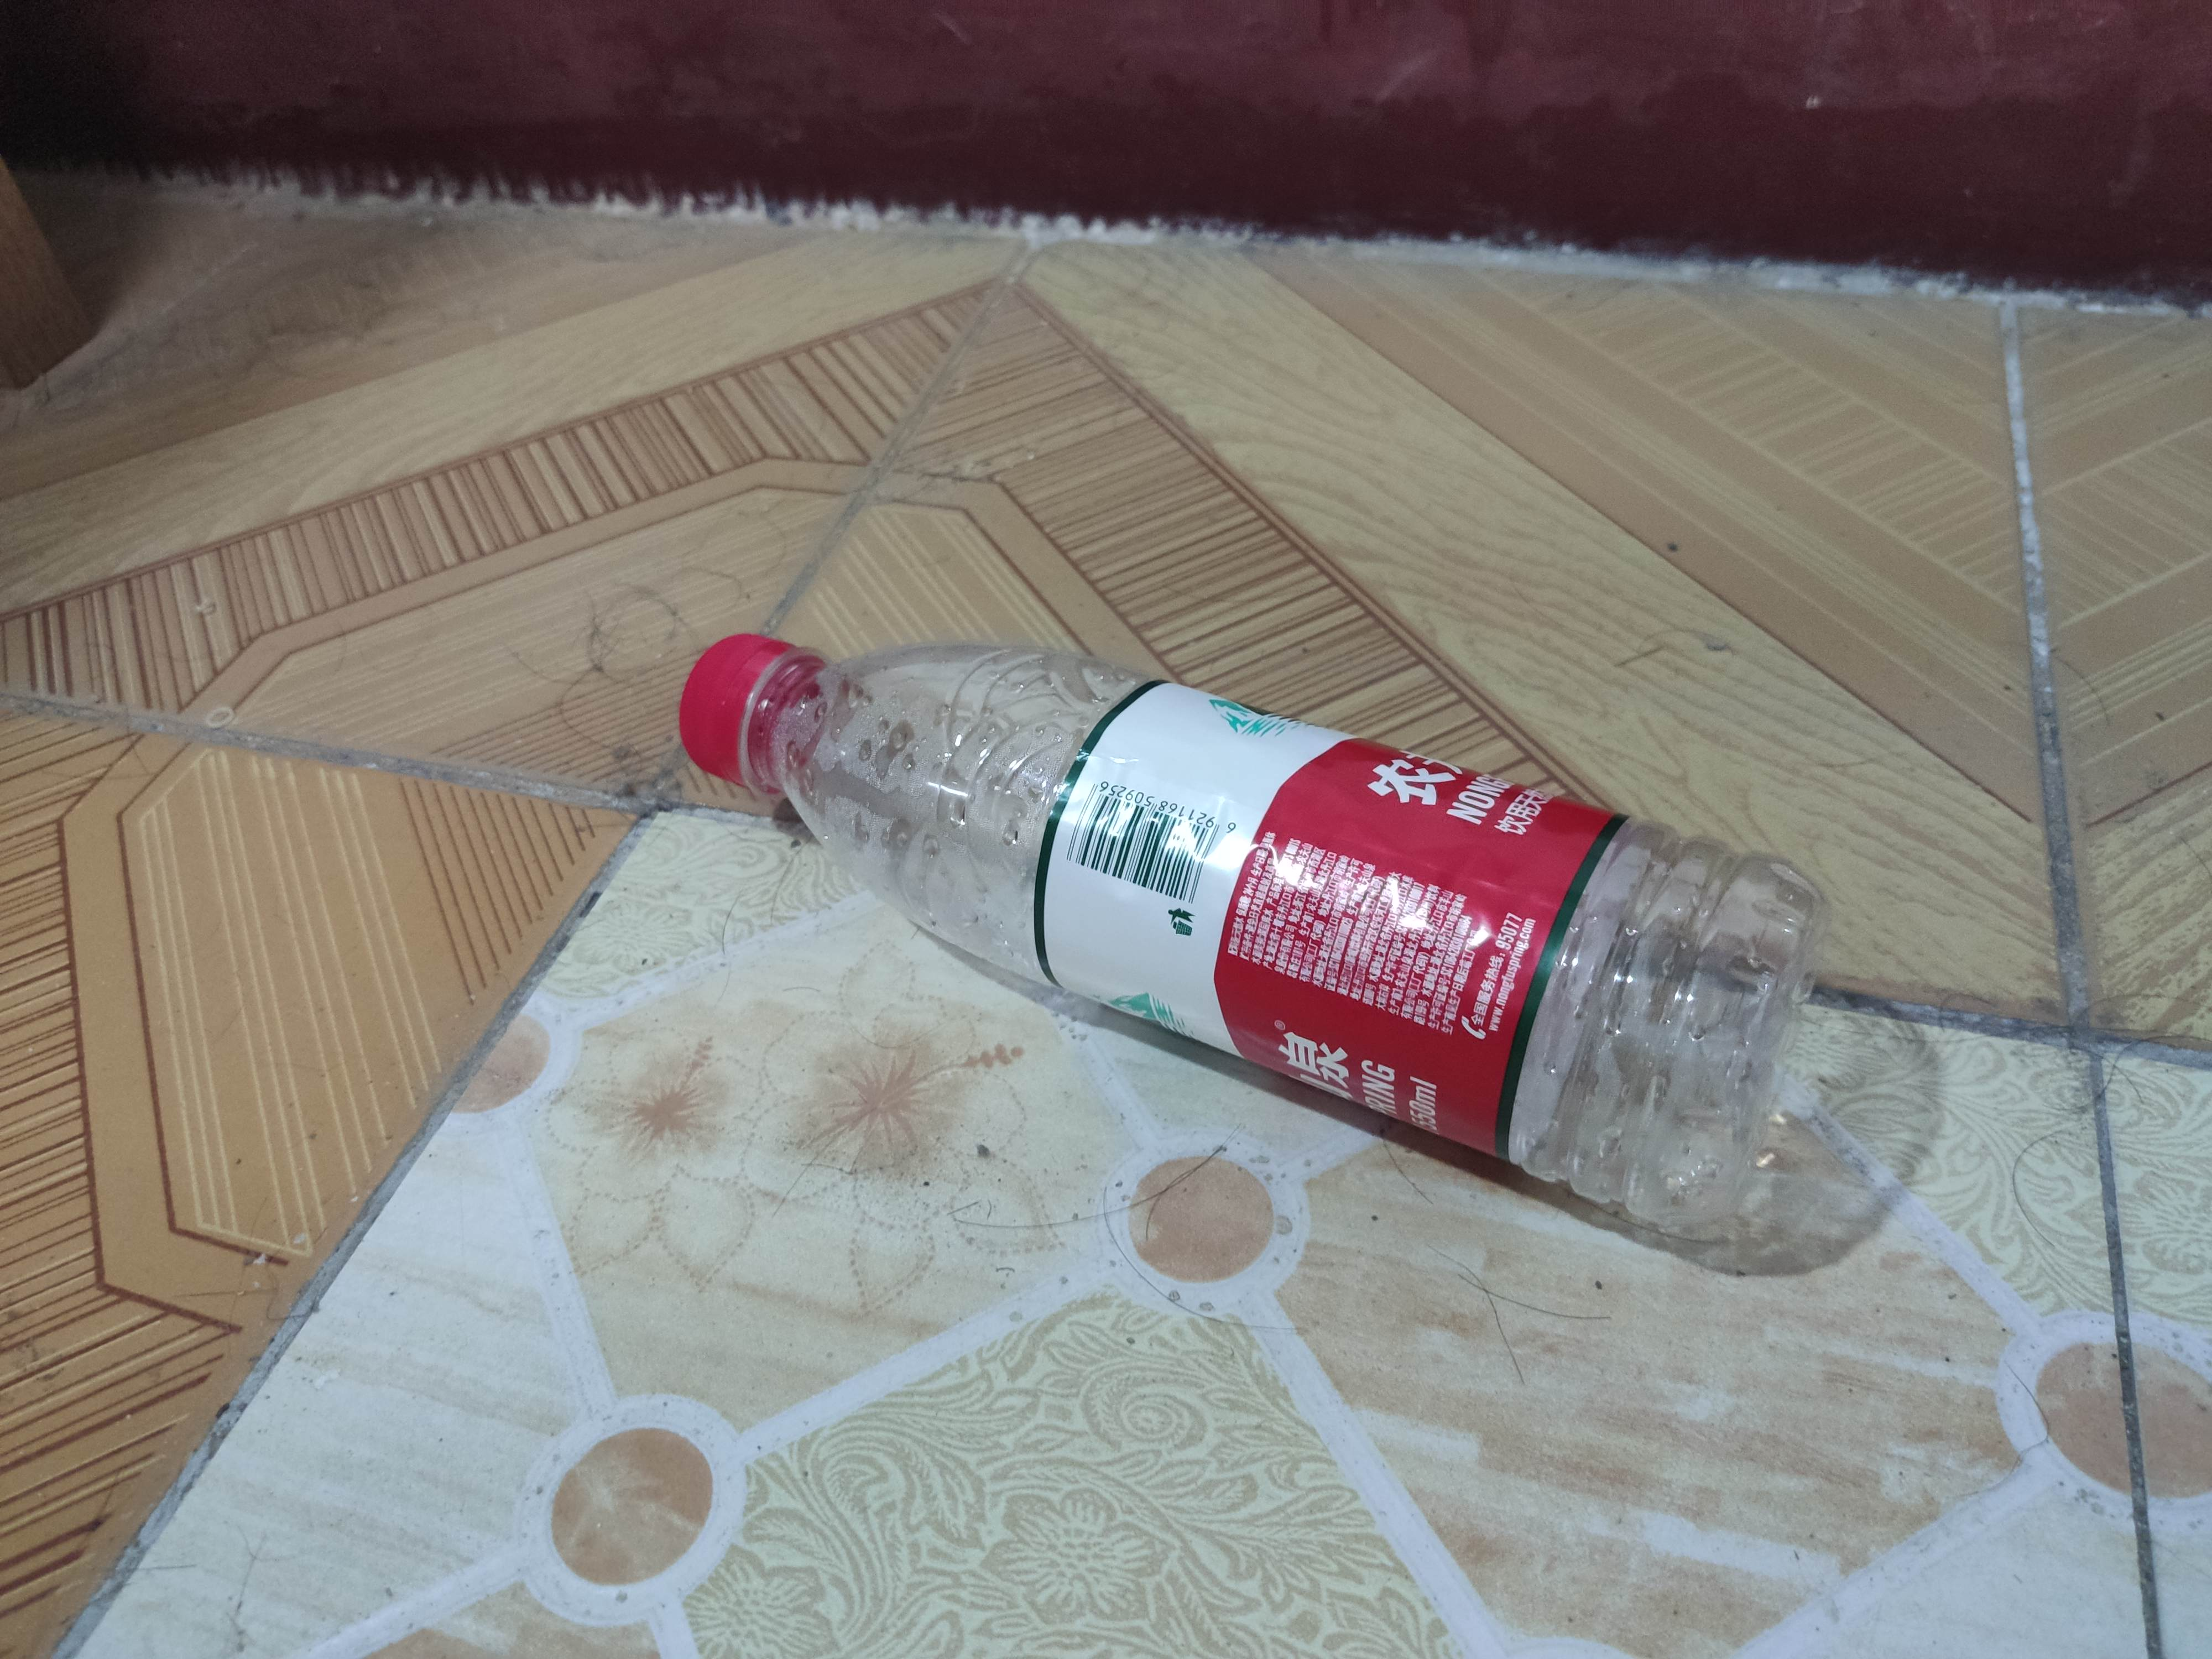Plastic Bottle: (674, 629, 1832, 1239)
